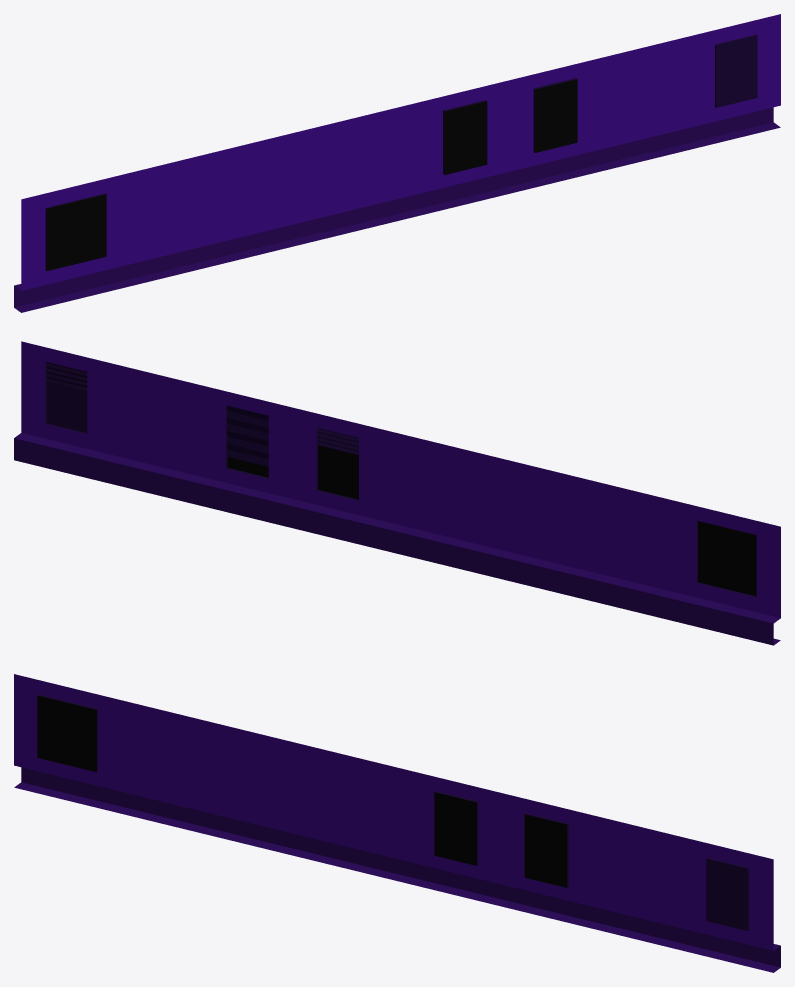
The model's file is RunnablePartLong3.fbx.
The picture shows the model from 3 angles, top to bottom: view 1: azimuth 30°, elevation 25°; view 2: azimuth 150°, elevation 25°; view 3: azimuth 330°, elevation 25°; orthographic projection.
Parts seen in each view (by area): view 1: Plane.014; view 2: Plane.014; view 3: Plane.014.
Part boxes in pixels (<box>): Plane.014: <box>14,14,780,312</box>; Plane.014: <box>14,341,780,645</box>; Plane.014: <box>14,674,780,972</box>.
Size of the model in its own units: 14000 by 2000 by 282.
